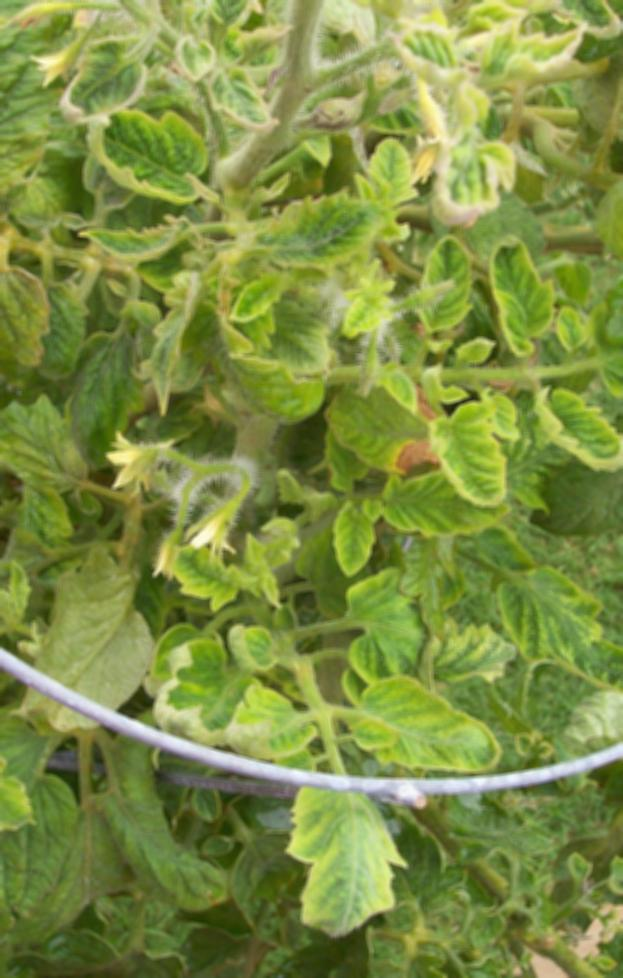Tomato leaf yellow virus: (285, 749, 404, 946), (224, 175, 406, 275), (343, 671, 503, 771), (76, 91, 210, 205), (416, 375, 524, 512), (224, 287, 331, 385), (374, 474, 543, 536), (533, 383, 623, 492), (219, 686, 331, 771), (483, 231, 552, 361), (359, 128, 419, 236), (416, 230, 471, 336), (324, 480, 381, 581), (169, 540, 261, 602), (0, 725, 42, 834)
